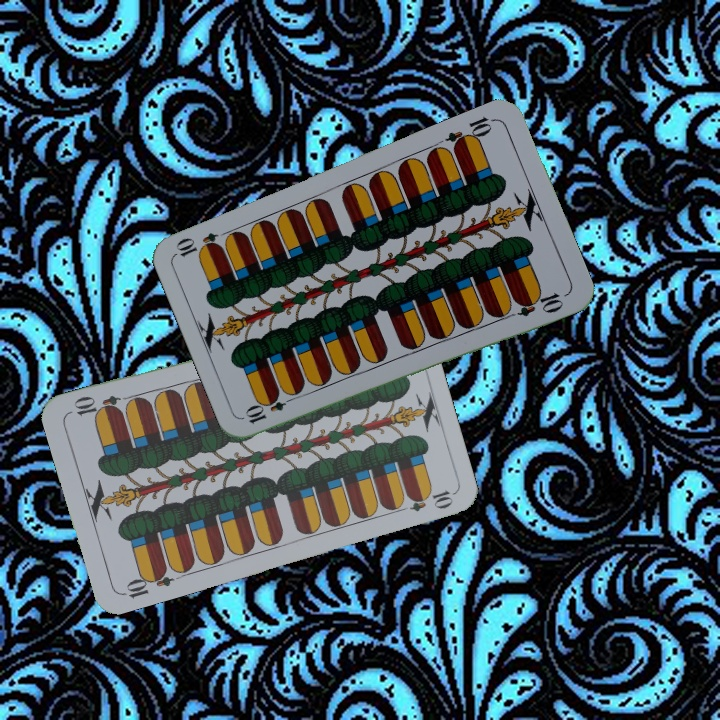E10: (442, 112, 498, 153), (117, 564, 175, 601), (241, 390, 299, 427)
